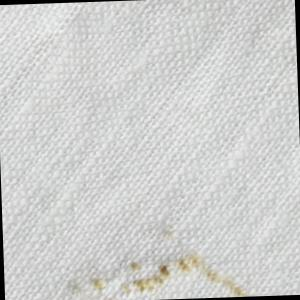Oil Stain: (60, 223, 257, 300)
